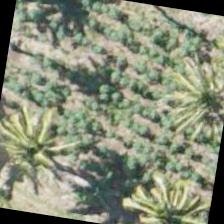Kelapa_Sawit: (0, 94, 88, 198), (149, 51, 223, 152), (115, 159, 216, 223)
